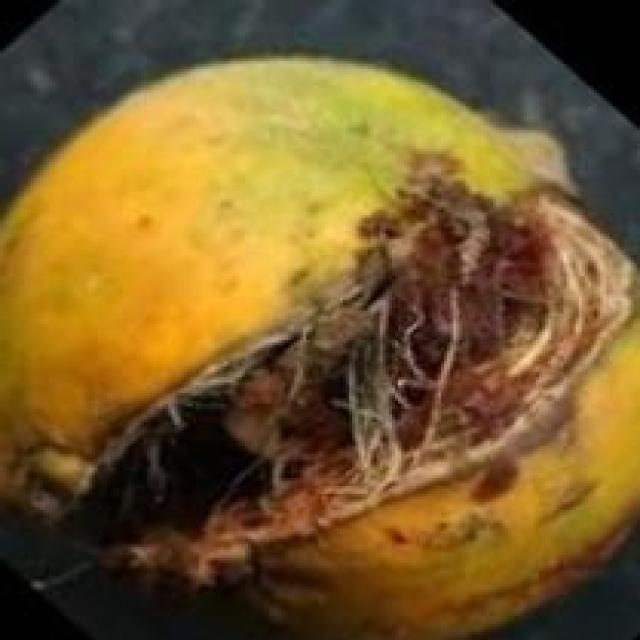damaged: (0, 53, 637, 637)
